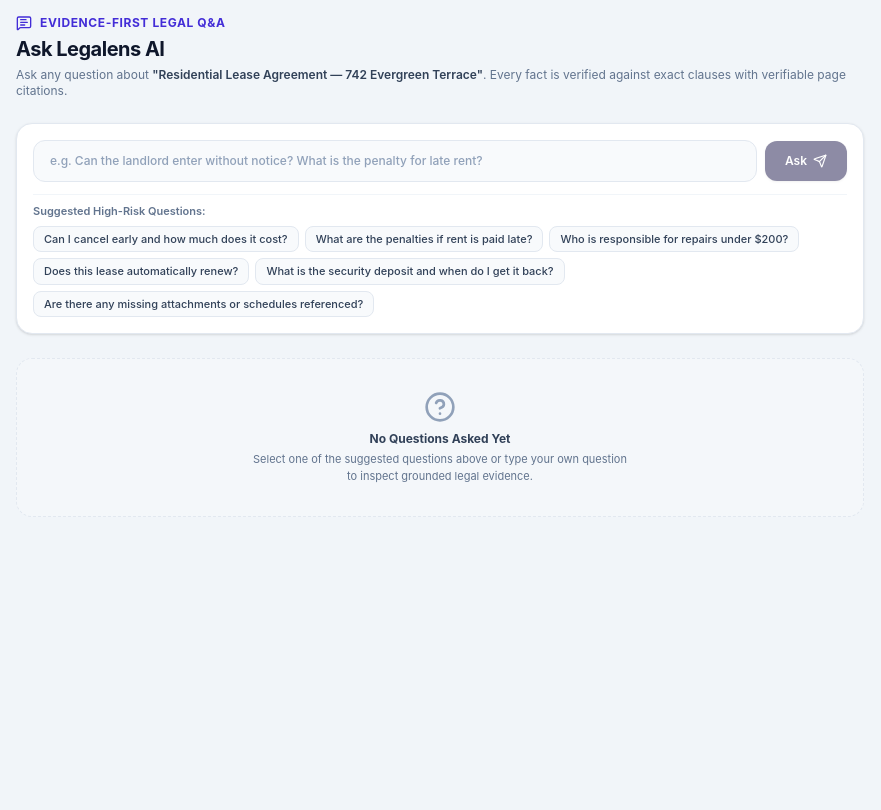
it: Legalens AI Core Component Interactions › AskLegalens Component › submits a question and renders grounded answer with evidence
Replace the text in the field with placeholder "Can the landlord enter without notice" with "What is the rent?": (395, 161) top-left (33, 140), bottom-right (757, 182)
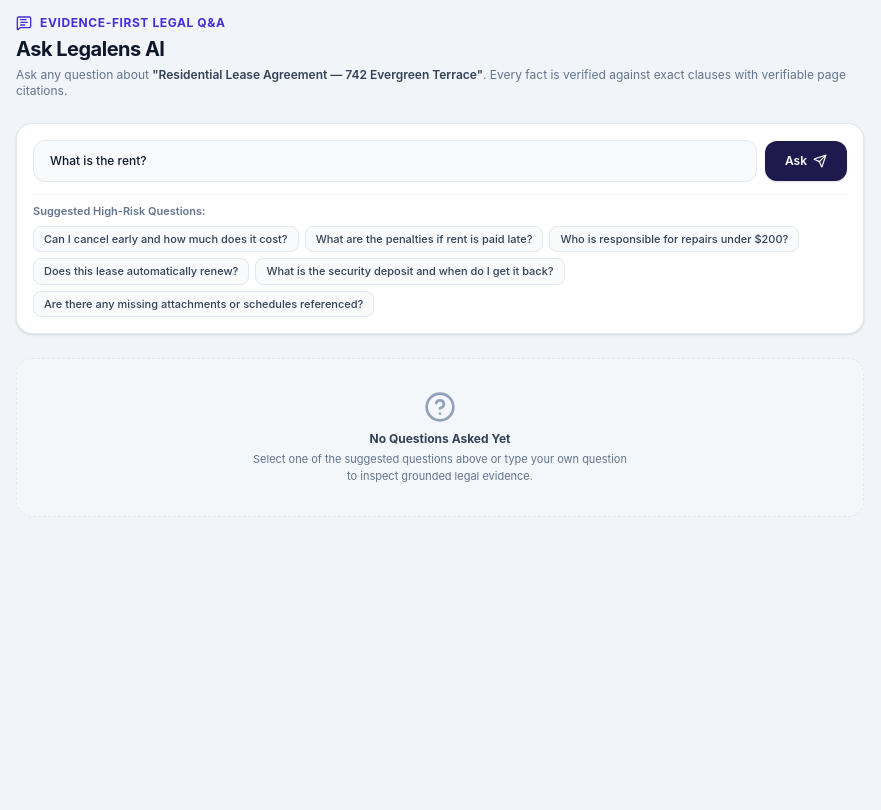
Click the button with aria-label "Submit question to Legalens AI": (806, 161) top-left (765, 141), bottom-right (847, 181)
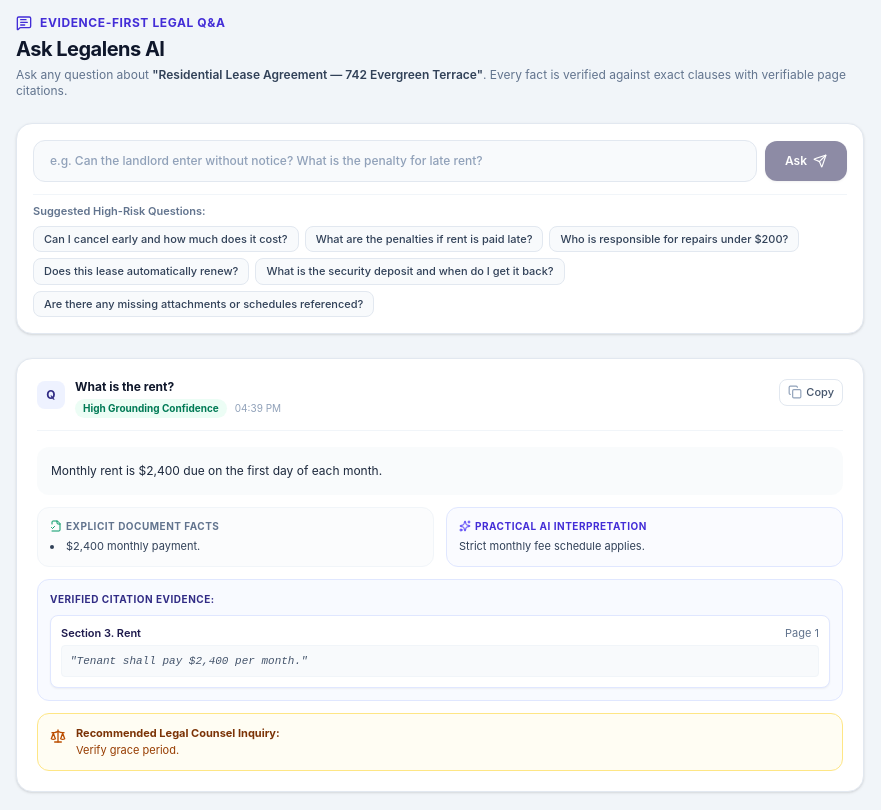
expect the text "Monthly rent is $2,400 due on the first day of each month." is shown: met, box top-left (37, 447), bottom-right (843, 494)
